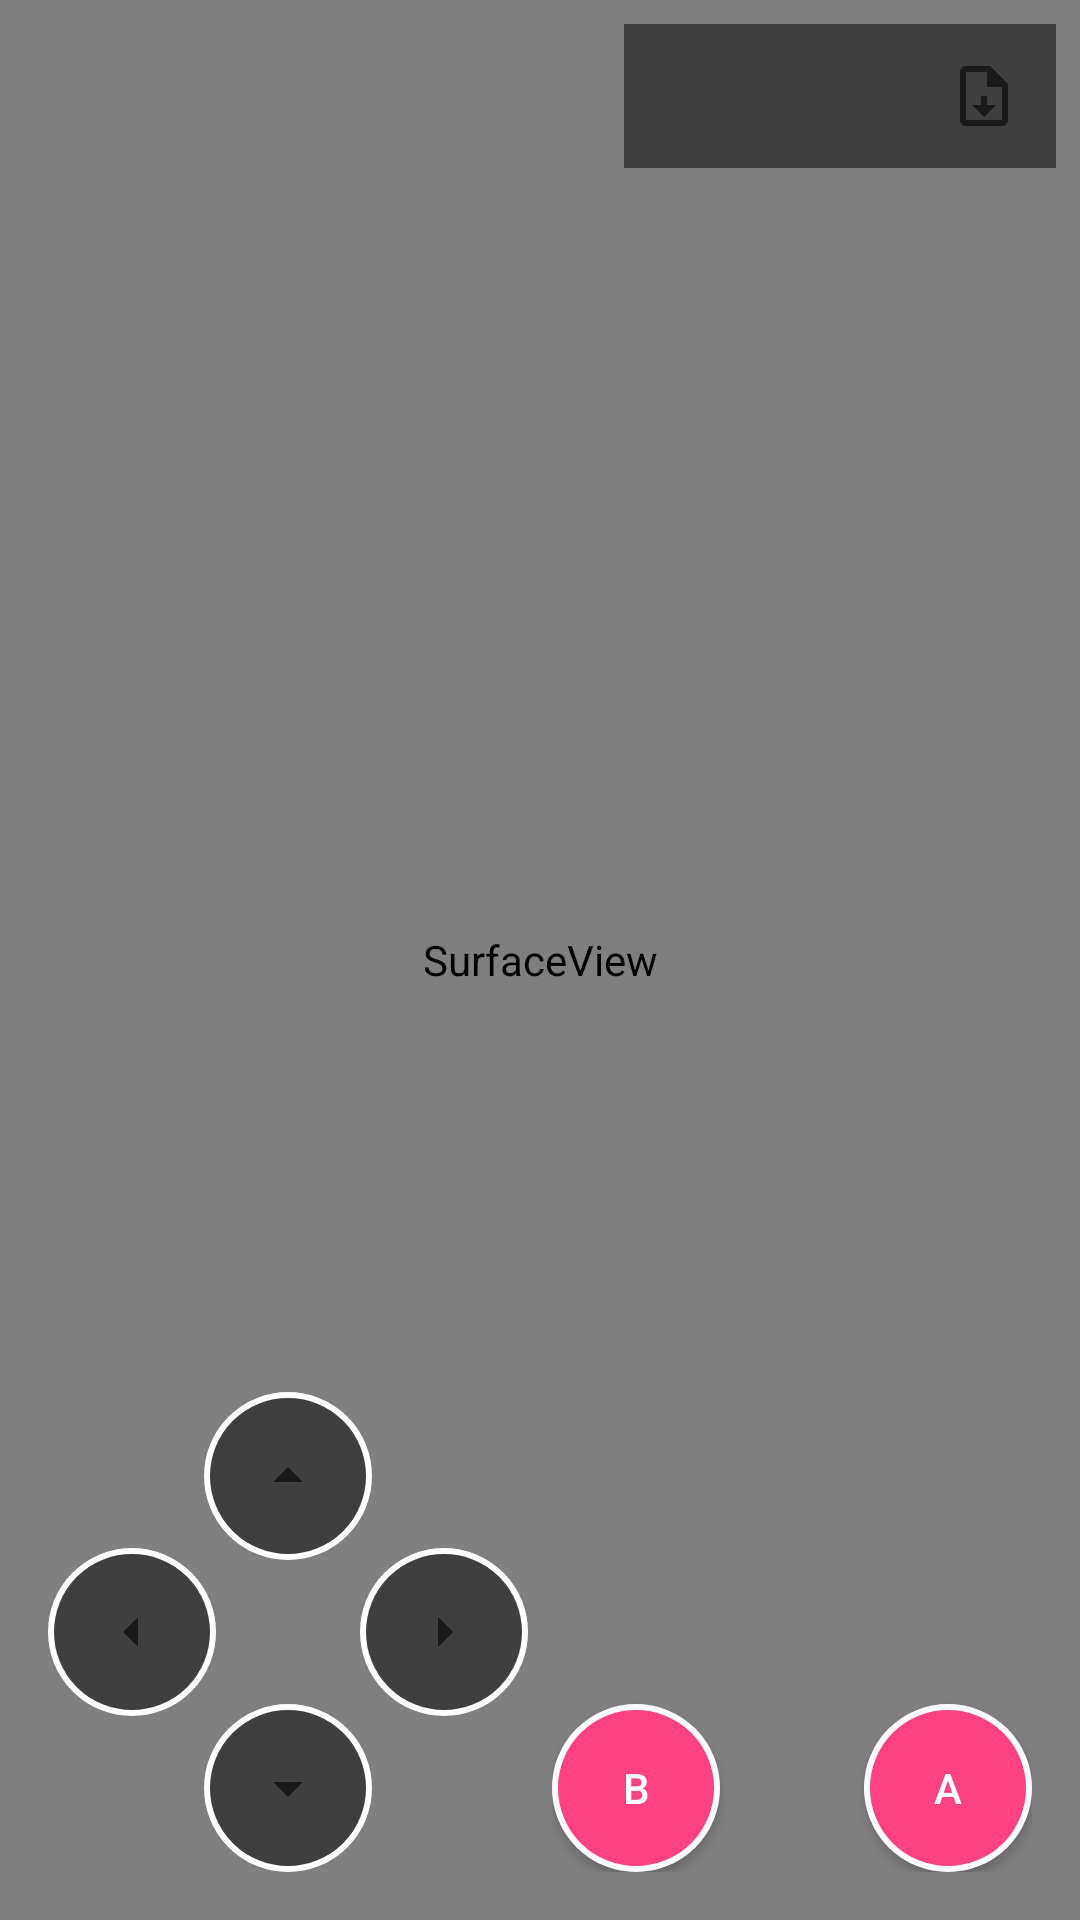

Where icons sit on this 1080*1920 app screen, as (x1, y1, x2, y2):
Down: (204, 1704, 372, 1872)
Left: (48, 1548, 216, 1716)
Load State: (960, 66, 1008, 126)
Right: (360, 1548, 528, 1716)
Up: (204, 1392, 372, 1560)
